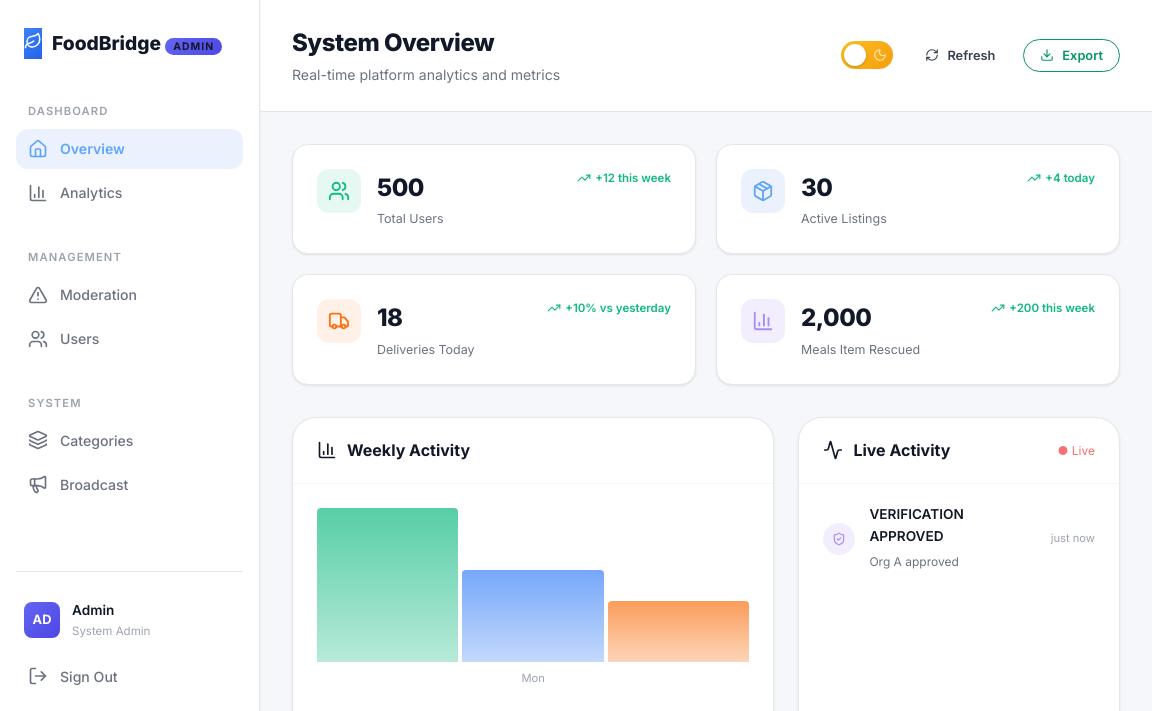
it: AdminDashboard — Moderation tab actions › removes card after Dismiss action
The image size is (1152, 711).
Expected: the heading "System Overview" is shown, [292,28,494,57]
Click the button "Moderation" at x=130, y=295, box [16,275,243,315]
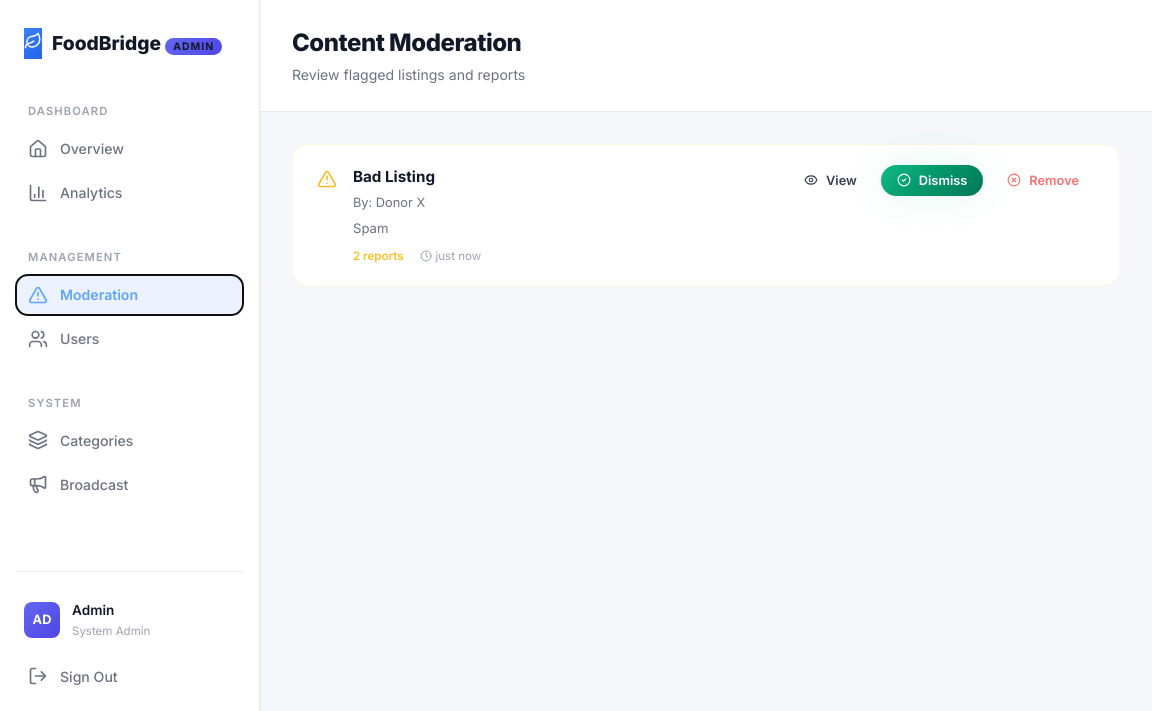
Expected: the heading "Content Moderation" is shown, [292,24,525,62]
Click the button "Dismiss" at x=932, y=180, box [881,165,983,196]
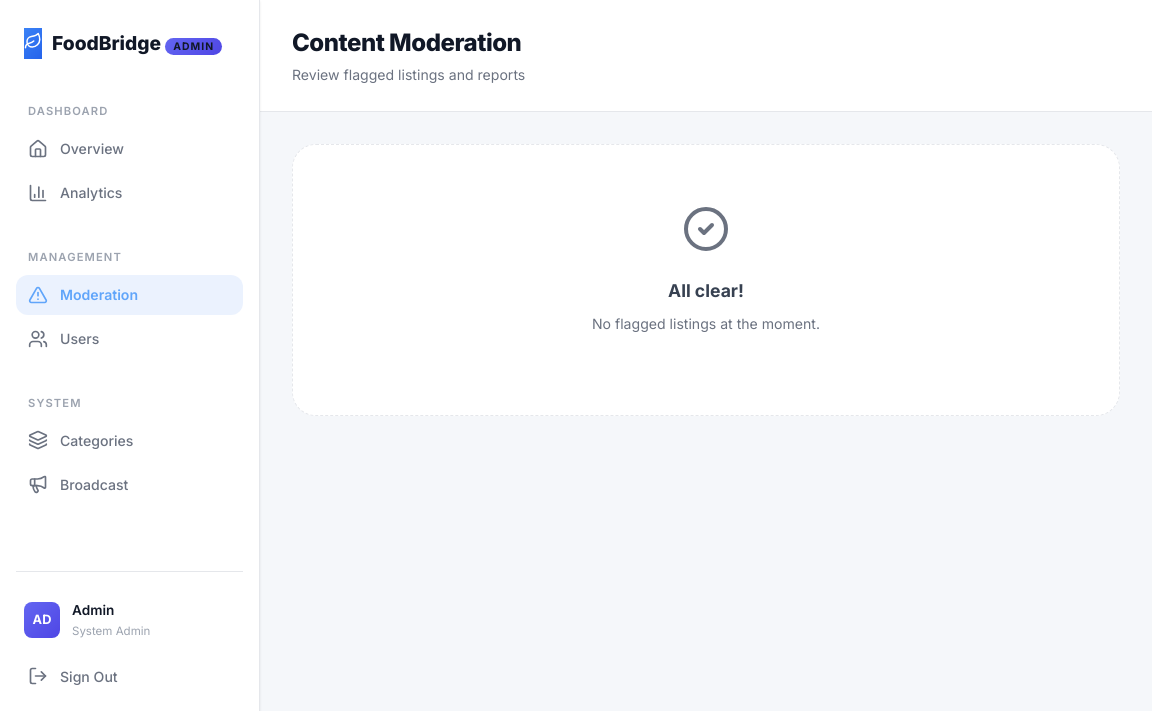
Expected: the heading "Bad Listing" is gone
Expected: the heading "All clear!" is shown, [668,280,744,300]
